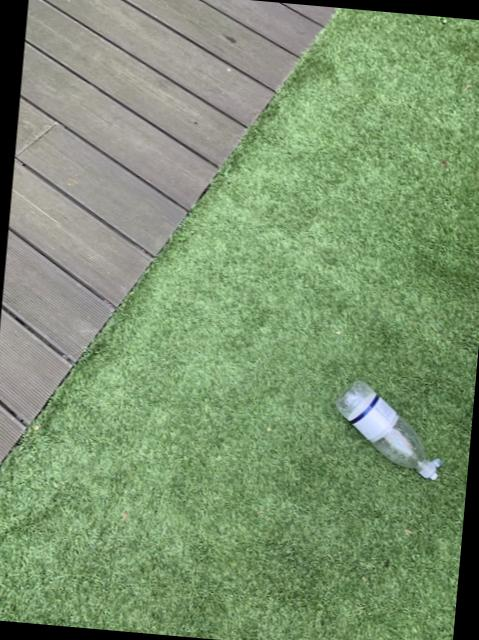plastic: (334, 379, 439, 477)
